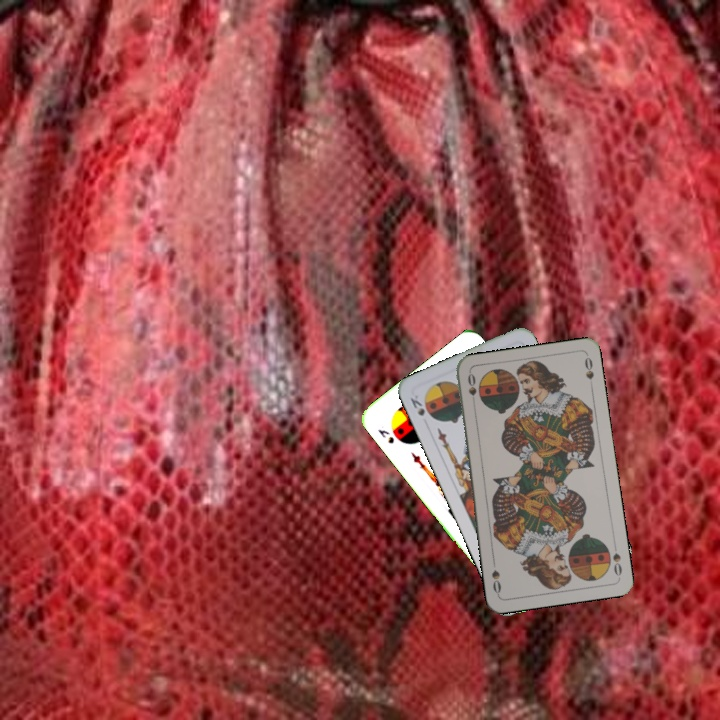SK: (406, 391, 427, 419), (374, 425, 397, 446)
SO: (608, 539, 624, 578), (464, 369, 479, 410)
